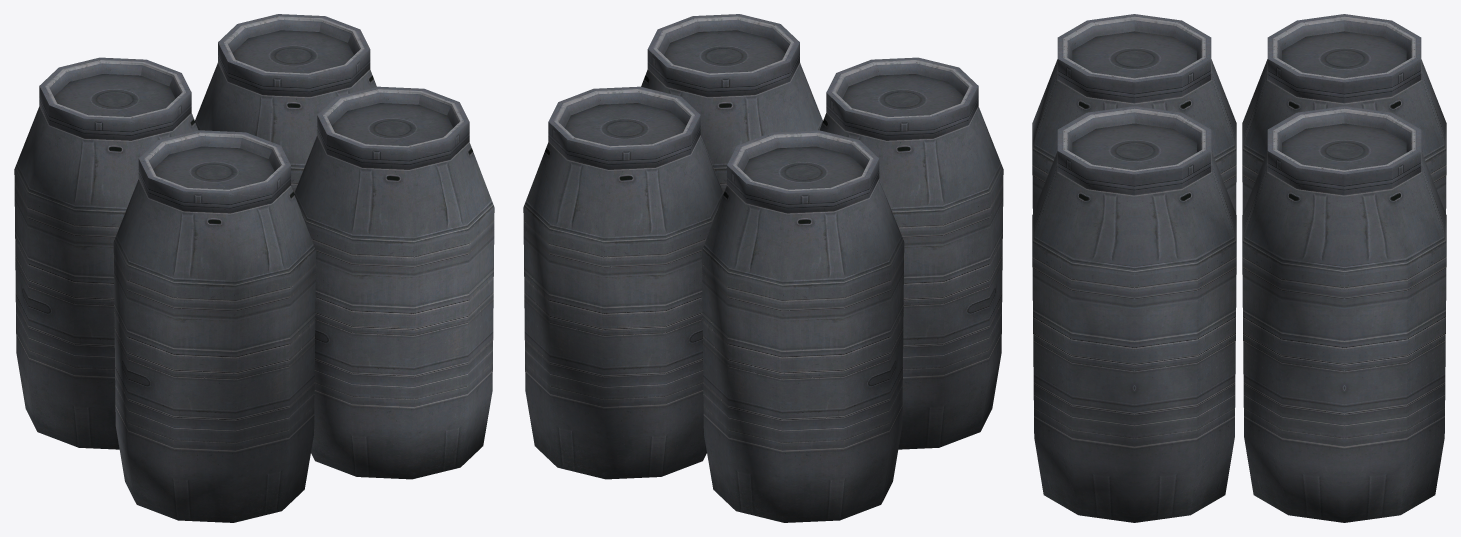
The model's file is Prop_Qyt02.glb.
3 renders of one model, left to right at view 1: azimuth 30°, elevation 25°; view 2: azimuth 150°, elevation 25°; view 3: azimuth 270°, elevation 25°, orthographic. The views are drawn at different scales.
Parts seen in each view (by area): view 1: xiutz_qyt_02; view 2: xiutz_qyt_02; view 3: xiutz_qyt_02.
Part boxes in pixels (x1=…): xiutz_qyt_02: x1=14, y1=14, x2=494, y2=522; xiutz_qyt_02: x1=523, y1=14, x2=1003, y2=522; xiutz_qyt_02: x1=1032, y1=14, x2=1446, y2=522.
Bounding box in the file's own units: 1.46 × 1.28 × 1.4.
Materials: 1 (1 with a texture image).
